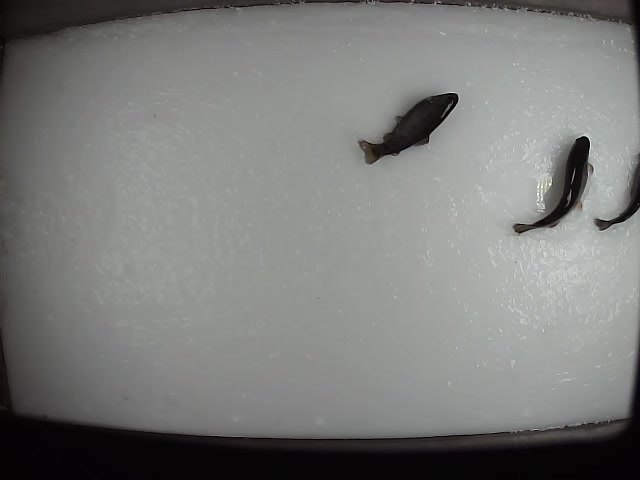fish: (506, 131, 596, 238), (356, 89, 460, 169)
